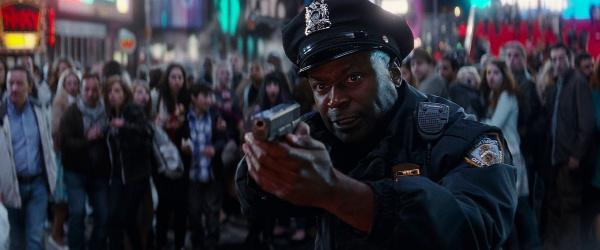Gun: (250, 103, 303, 143)
